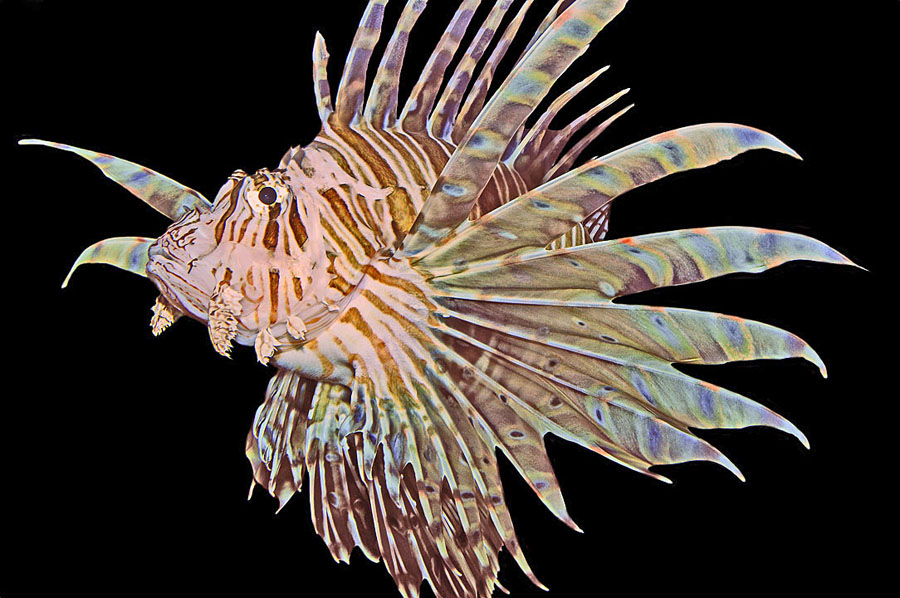Pterois_volitans: (38, 6, 825, 564)
